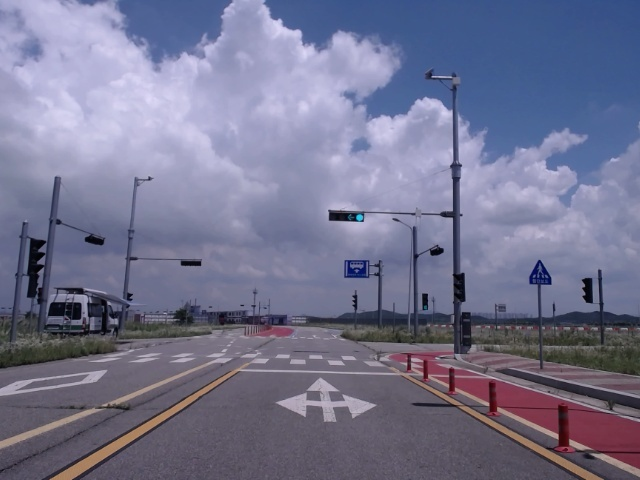all_green_4: (329, 209, 364, 220)
